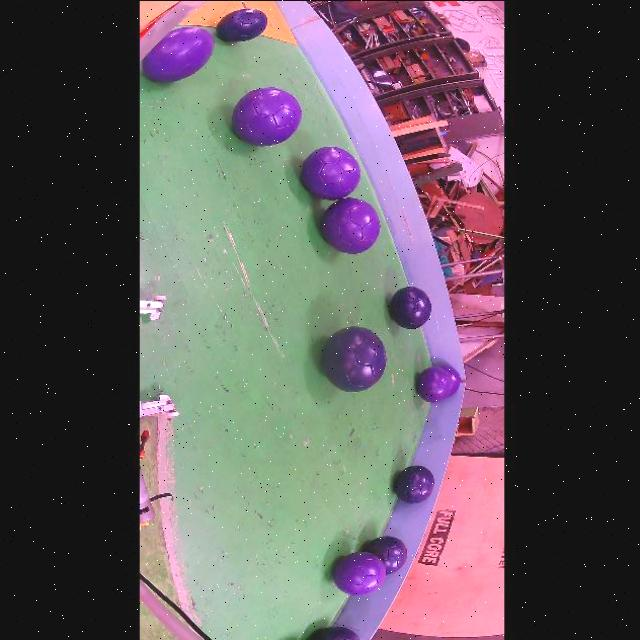B: (322, 326, 387, 392), (389, 285, 431, 328), (217, 8, 268, 41), (364, 535, 407, 574), (394, 464, 435, 503), (311, 625, 359, 640)
P: (232, 87, 302, 145), (142, 26, 214, 82), (322, 197, 380, 252), (302, 146, 361, 199), (332, 551, 385, 594), (417, 366, 452, 402), (442, 365, 461, 395)
